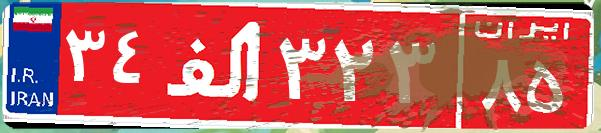2: (330, 28, 385, 110)
3: (385, 28, 445, 110), (273, 28, 330, 110), (57, 26, 110, 107)
4: (110, 28, 158, 105)
5: (525, 38, 570, 115)
8: (475, 38, 525, 113)
الف: (158, 15, 273, 115)
